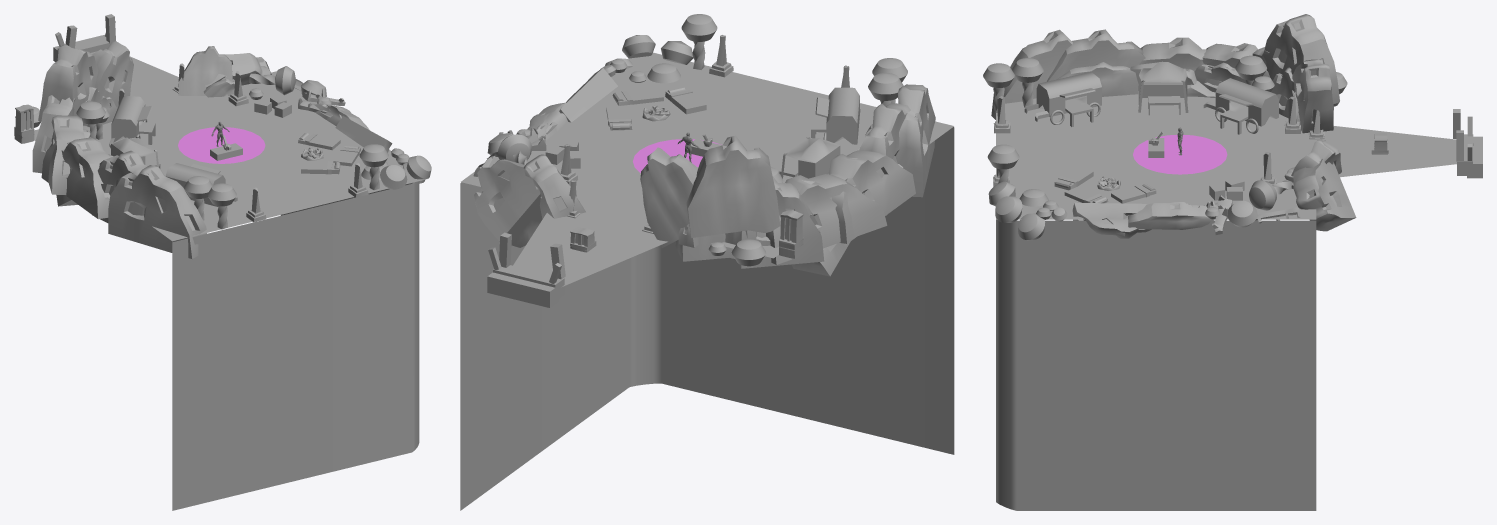
Rendered from NPC Hub Basic Blockout V1.fbx.
The picture shows the model from 3 angles, left to right: view 1: azimuth 30°, elevation 25°; view 2: azimuth 150°, elevation 25°; view 3: azimuth 270°, elevation 25°; orthographic projection. The views are drawn at different scales.
Parts seen in each view (by area): view 1: pCube18, Floorplane, BrokenWallTall_2_x_1, BrokenWallTall_2_x_16, BrokenWallTall_2_x_14, pCube19 (×2), Summoning_Circle, BrokenWallTall_2_x_15, BrokenWallTall_2_x_10, BrokenWallTall_2_x_6, Floorplane2, BrokenWallTall_2_x_7 (+13 smaller); view 2: pCube18, Floorplane, BrokenWallTall_2_x_14, Floorplane2, BrokenWallTall_2_x_9, BrokenWallTall_2_x_16, BrokenWallTall_2_x_6, BrokenWallTall_2_x_15, BrokenWallTall_2_x_1, BrokenWallTall_2_x_7, pCube19, BrokenWallTall_2_x_10 (+19 smaller); view 3: pCube18, Floorplane, pCube19 (×2), Floorplane2, BrokenWallTall_2_x_14, BrokenWallTall_2_x_9, Summoning_Circle, BrokenWallTall_2_x_15, BrokenWallTall_2_x_17, BrokenWallTall_2_x_21, BrokenWallTall_2_x_1, BrokenWallTall_2_x_22 (+15 smaller).
Part boxes in pixels (left/top/right/bottom): pCube18: left=172, top=181, right=419, bottom=510; Floorplane: left=34, top=71, right=428, bottom=241; BrokenWallTall_2_x_1: left=108, top=165, right=206, bottom=258; BrokenWallTall_2_x_16: left=41, top=137, right=110, bottom=219; BrokenWallTall_2_x_14: left=38, top=44, right=98, bottom=121; pCube19 (×2): left=109, top=95, right=237, bottom=207; Summoning_Circle: left=178, top=127, right=265, bottom=163; BrokenWallTall_2_x_15: left=92, top=41, right=133, bottom=108; BrokenWallTall_2_x_10: left=178, top=46, right=232, bottom=96; BrokenWallTall_2_x_6: left=45, top=115, right=84, bottom=194; Floorplane2: left=90, top=51, right=181, bottom=104; BrokenWallTall_2_x_7: left=32, top=95, right=75, bottom=173; pCube18: left=460, top=127, right=954, bottom=510; Floorplane: left=461, top=52, right=953, bottom=258; BrokenWallTall_2_x_14: left=686, top=135, right=780, bottom=237; Floorplane2: left=513, top=210, right=667, bottom=286; BrokenWallTall_2_x_9: left=474, top=159, right=542, bottom=247; BrokenWallTall_2_x_16: left=829, top=150, right=915, bottom=243; BrokenWallTall_2_x_6: left=766, top=174, right=887, bottom=264; BrokenWallTall_2_x_15: left=640, top=147, right=698, bottom=247; BrokenWallTall_2_x_1: left=895, top=84, right=935, bottom=197; BrokenWallTall_2_x_7: left=739, top=176, right=824, bottom=268; pCube19: left=811, top=87, right=860, bottom=144; BrokenWallTall_2_x_10: left=523, top=154, right=585, bottom=218; pCube18: left=996, top=219, right=1316, bottom=510; Floorplane: left=996, top=91, right=1316, bottom=219; pCube19 (×2): left=1024, top=72, right=1278, bottom=134; Floorplane2: left=1316, top=126, right=1456, bottom=177; BrokenWallTall_2_x_14: left=1263, top=14, right=1339, bottom=103; BrokenWallTall_2_x_9: left=1293, top=159, right=1356, bottom=231; Summoning_Circle: left=1133, top=134, right=1227, bottom=174; BrokenWallTall_2_x_15: left=1292, top=58, right=1333, bottom=133; BrokenWallTall_2_x_17: left=1047, top=29, right=1145, bottom=81; BrokenWallTall_2_x_21: left=1128, top=202, right=1214, bottom=229; BrokenWallTall_2_x_1: left=991, top=29, right=1072, bottom=119; BrokenWallTall_2_x_22: left=1072, top=202, right=1151, bottom=238.
Size of the model in its own units: 2397 by 2615 by 3121.
